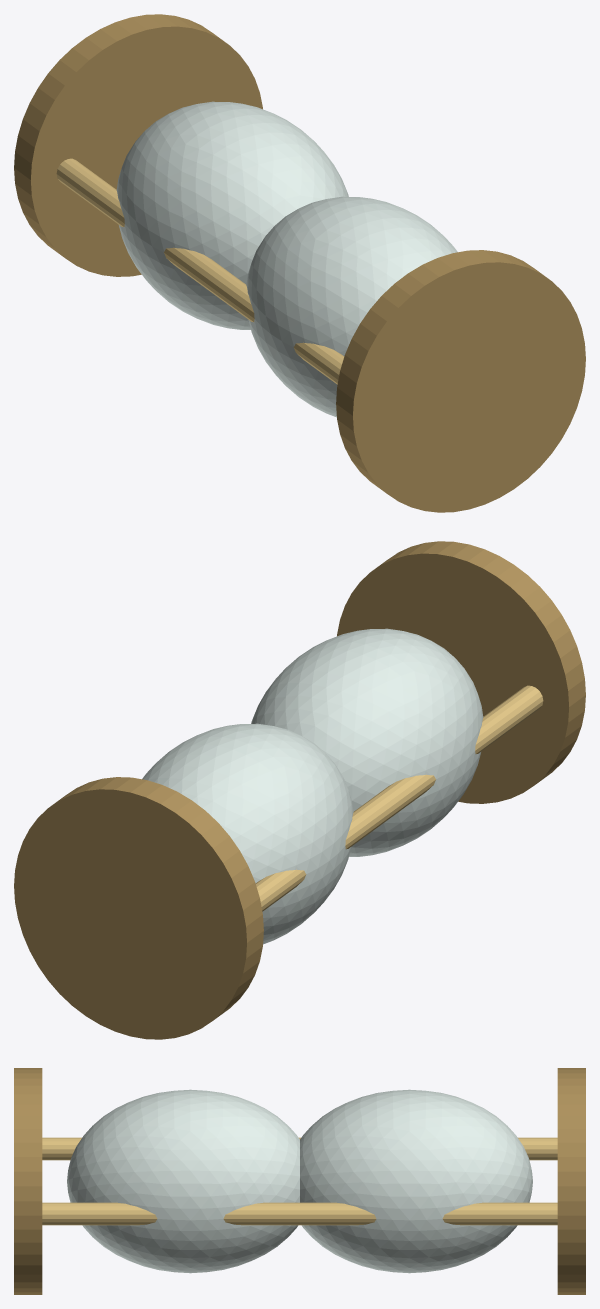
The model's file is prop_bottom_hourglass.glb.
The picture shows the model from 3 angles, top to bottom: view 1: azimuth 30°, elevation 25°; view 2: azimuth 150°, elevation 25°; view 3: azimuth 270°, elevation 25°; orthographic projection. The views are drawn at different scales.
Parts seen in each view (by area): view 1: prop_bottom_hourglass_top_brass_cap, prop_bottom_hourglass_bottom_brass_cap, prop_bottom_hourglass_lower_glass_bulb, prop_bottom_hourglass_upper_glass_bulb, prop_bottom_hourglass_side_post_-0.10; view 2: prop_bottom_hourglass_bottom_brass_cap, prop_bottom_hourglass_top_brass_cap, prop_bottom_hourglass_upper_glass_bulb, prop_bottom_hourglass_lower_glass_bulb, prop_bottom_hourglass_side_post_-0.10; view 3: prop_bottom_hourglass_upper_glass_bulb, prop_bottom_hourglass_lower_glass_bulb, prop_bottom_hourglass_side_post_+0.10, prop_bottom_hourglass_top_brass_cap, prop_bottom_hourglass_bottom_brass_cap, prop_bottom_hourglass_side_post_-0.10.
Boxes of the visible parts, <box> form: prop_bottom_hourglass_top_brass_cap: <box>336,250,585,512</box>; prop_bottom_hourglass_bottom_brass_cap: <box>14,14,262,276</box>; prop_bottom_hourglass_lower_glass_bulb: <box>116,101,348,329</box>; prop_bottom_hourglass_upper_glass_bulb: <box>246,196,457,417</box>; prop_bottom_hourglass_side_post_-0.10: <box>56,158,344,384</box>; prop_bottom_hourglass_bottom_brass_cap: <box>14,777,263,1039</box>; prop_bottom_hourglass_top_brass_cap: <box>337,541,585,803</box>; prop_bottom_hourglass_upper_glass_bulb: <box>251,628,483,856</box>; prop_bottom_hourglass_lower_glass_bulb: <box>142,723,353,944</box>; prop_bottom_hourglass_side_post_-0.10: <box>255,685,543,911</box>; prop_bottom_hourglass_upper_glass_bulb: <box>67,1089,299,1273</box>; prop_bottom_hourglass_lower_glass_bulb: <box>300,1089,532,1273</box>; prop_bottom_hourglass_side_post_+0.10: <box>42,1202,557,1225</box>; prop_bottom_hourglass_top_brass_cap: <box>14,1068,42,1294</box>; prop_bottom_hourglass_bottom_brass_cap: <box>557,1068,585,1294</box>; prop_bottom_hourglass_side_post_-0.10: <box>42,1137,557,1160</box>.
Bounding box in the file's own units: 0.252 × 0.252 × 0.6345.
